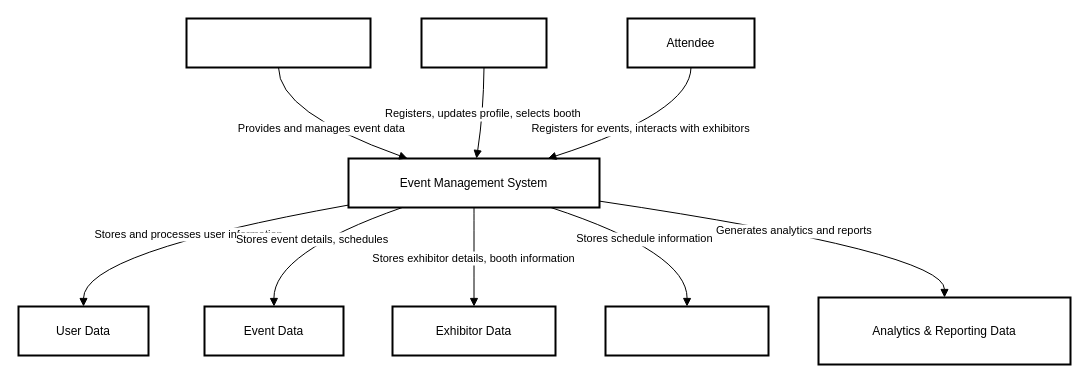
Image size: 1088x382. Some labels were removed from this diagram. Here are the shapes that lost their labels. From the top down, the box of each, then its label:
(185, 17, 371, 68): Admin/Organizer
(420, 17, 547, 68): Exhibitor
(604, 305, 769, 356): Schedule Data
